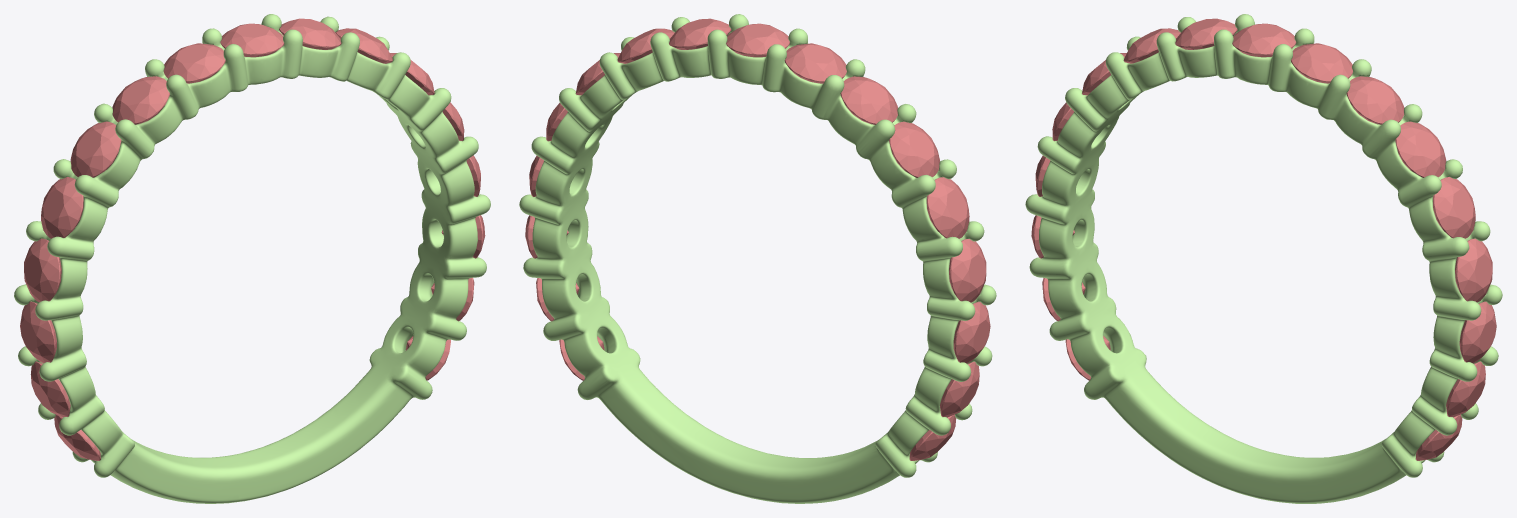
The model's file is BE2D1598LC_RENDER.glb.
3 renders of one model, left to right at view 1: azimuth 30°, elevation 25°; view 2: azimuth 150°, elevation 25°; view 3: azimuth 330°, elevation 25°, orthographic.
Parts seen in each view (by area): view 1: Metal03, Diamond_Round_Gem_BD.013, Diamond_Round_Gem_BD.014, Diamond_Round_Gem_BD.012, Diamond_Round_Gem_BD.015, Diamond_Round_Gem_BD.011, Diamond_Round_Gem_BD.016, Diamond_Round_Gem_BD.010, Diamond_Round_Gem_BD, Diamond_Round_Gem_BD.009, Diamond_Round_Gem_BD.001, Diamond_Round_Gem_BD.008; view 2: Metal03, Diamond_Round_Gem_BD.013, Diamond_Round_Gem_BD.014, Diamond_Round_Gem_BD.012, Diamond_Round_Gem_BD.015, Diamond_Round_Gem_BD.011, Diamond_Round_Gem_BD.010, Diamond_Round_Gem_BD.016, Diamond_Round_Gem_BD.009, Diamond_Round_Gem_BD, Diamond_Round_Gem_BD.001, Diamond_Round_Gem_BD.008; view 3: Metal03, Diamond_Round_Gem_BD.002, Diamond_Round_Gem_BD.001, Diamond_Round_Gem_BD.003, Diamond_Round_Gem_BD.004, Diamond_Round_Gem_BD, Diamond_Round_Gem_BD.005, Diamond_Round_Gem_BD.016, Diamond_Round_Gem_BD.015, Diamond_Round_Gem_BD.006, Diamond_Round_Gem_BD.014, Diamond_Round_Gem_BD.007.
Part boxes in pixels (x1,y1,x2,y2): Metal03: [14, 14, 490, 503]; Diamond_Round_Gem_BD.013: [70, 121, 121, 177]; Diamond_Round_Gem_BD.014: [112, 76, 169, 124]; Diamond_Round_Gem_BD.012: [41, 177, 83, 238]; Diamond_Round_Gem_BD.015: [163, 43, 225, 83]; Diamond_Round_Gem_BD.011: [24, 238, 61, 302]; Diamond_Round_Gem_BD.016: [220, 23, 284, 57]; Diamond_Round_Gem_BD.010: [20, 301, 56, 363]; Diamond_Round_Gem_BD: [279, 18, 341, 49]; Diamond_Round_Gem_BD.009: [30, 361, 70, 417]; Diamond_Round_Gem_BD.001: [335, 28, 392, 63]; Diamond_Round_Gem_BD.008: [54, 414, 100, 460]; Metal03: [519, 14, 996, 503]; Diamond_Round_Gem_BD.013: [889, 121, 939, 177]; Diamond_Round_Gem_BD.014: [840, 76, 897, 124]; Diamond_Round_Gem_BD.012: [926, 177, 969, 238]; Diamond_Round_Gem_BD.015: [784, 43, 846, 83]; Diamond_Round_Gem_BD.011: [949, 239, 986, 302]; Diamond_Round_Gem_BD.010: [953, 301, 990, 363]; Diamond_Round_Gem_BD.016: [726, 23, 789, 57]; Diamond_Round_Gem_BD.009: [940, 361, 979, 417]; Diamond_Round_Gem_BD: [669, 18, 731, 49]; Diamond_Round_Gem_BD.001: [617, 28, 674, 63]; Diamond_Round_Gem_BD.008: [909, 414, 956, 460]; Metal03: [1025, 14, 1502, 503]; Diamond_Round_Gem_BD.002: [1395, 121, 1446, 177]; Diamond_Round_Gem_BD.001: [1346, 76, 1404, 124]; Diamond_Round_Gem_BD.003: [1433, 177, 1475, 238]; Diamond_Round_Gem_BD.004: [1455, 238, 1492, 302]; Diamond_Round_Gem_BD: [1291, 43, 1352, 83]; Diamond_Round_Gem_BD.005: [1459, 301, 1496, 363]; Diamond_Round_Gem_BD.016: [1232, 23, 1296, 57]; Diamond_Round_Gem_BD.015: [1175, 18, 1237, 49]; Diamond_Round_Gem_BD.006: [1446, 361, 1485, 417]; Diamond_Round_Gem_BD.014: [1123, 28, 1180, 63]; Diamond_Round_Gem_BD.007: [1415, 414, 1462, 460].
Bounding box in the file's own units: 20.31 × 19.94 × 2.5.
